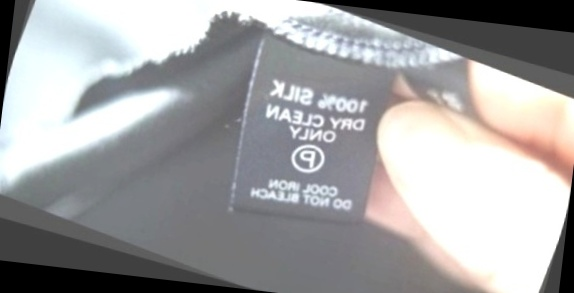dry_clean_any_solvent_except_trichloroethylene: (281, 133, 333, 182)
